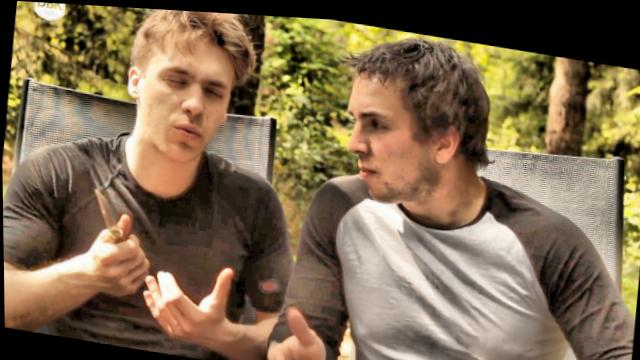knife: (75, 173, 158, 286)
